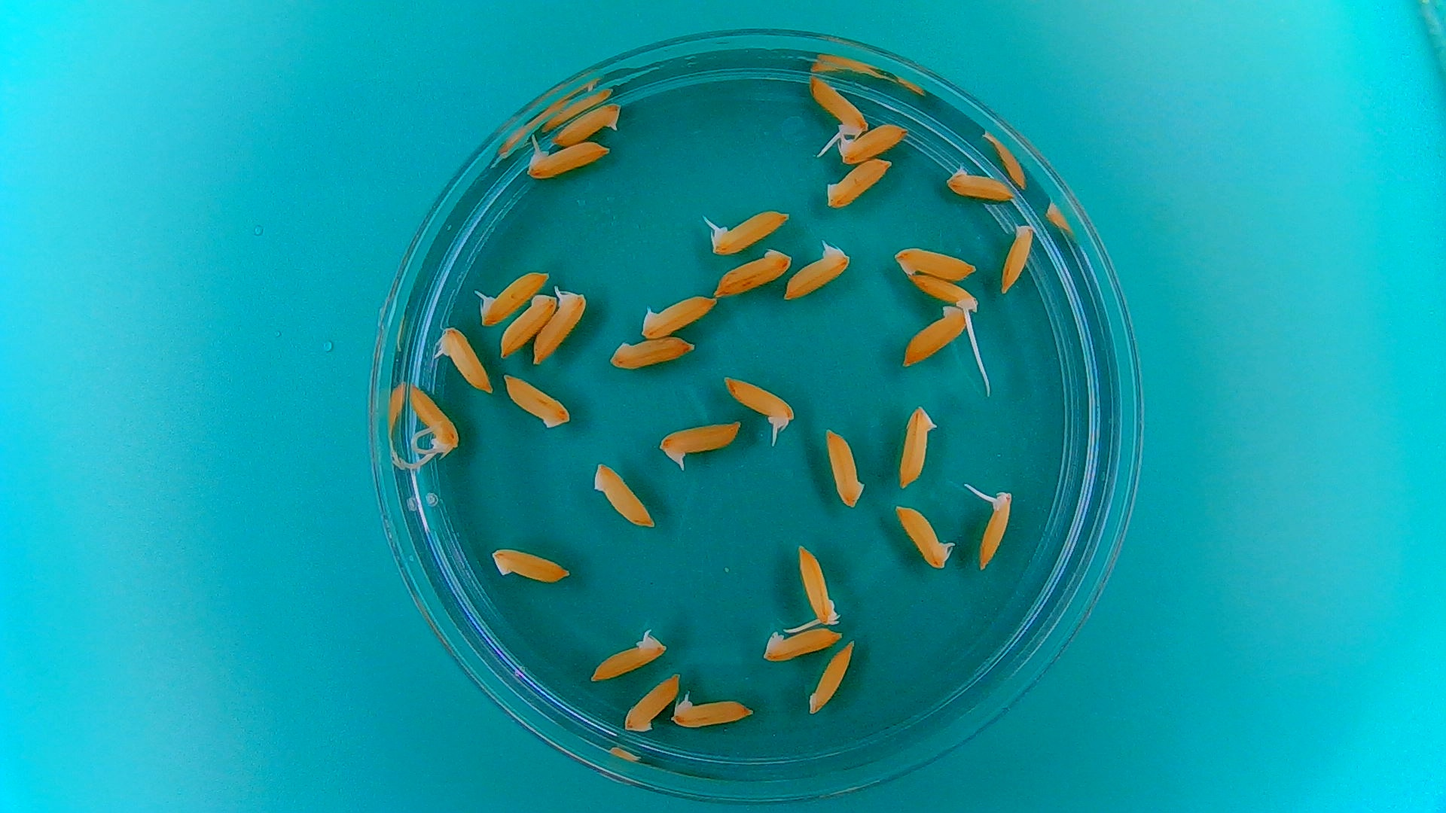no: (589, 458, 657, 531), (899, 306, 974, 370), (710, 244, 795, 300), (637, 290, 720, 342), (501, 288, 558, 361), (895, 400, 941, 490), (501, 372, 572, 430), (621, 671, 684, 736), (822, 425, 868, 511), (804, 640, 854, 717), (891, 240, 979, 282), (548, 99, 625, 146), (825, 157, 893, 209), (759, 624, 843, 664), (489, 546, 571, 586), (608, 336, 700, 371), (942, 161, 1019, 202), (998, 218, 1038, 294)
yes: (585, 626, 664, 685), (477, 268, 551, 329), (531, 287, 587, 367), (406, 381, 461, 458), (892, 507, 958, 571), (706, 206, 787, 257), (437, 327, 495, 396), (782, 242, 848, 302), (797, 547, 840, 635), (807, 78, 868, 140), (723, 375, 794, 427), (657, 425, 737, 466), (905, 272, 975, 318), (668, 693, 755, 730), (836, 120, 910, 163), (528, 145, 612, 181), (975, 488, 1012, 569)
